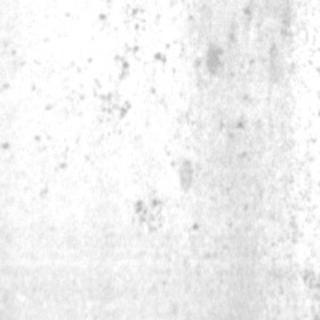pitted_surface: (0, 1, 264, 188)
